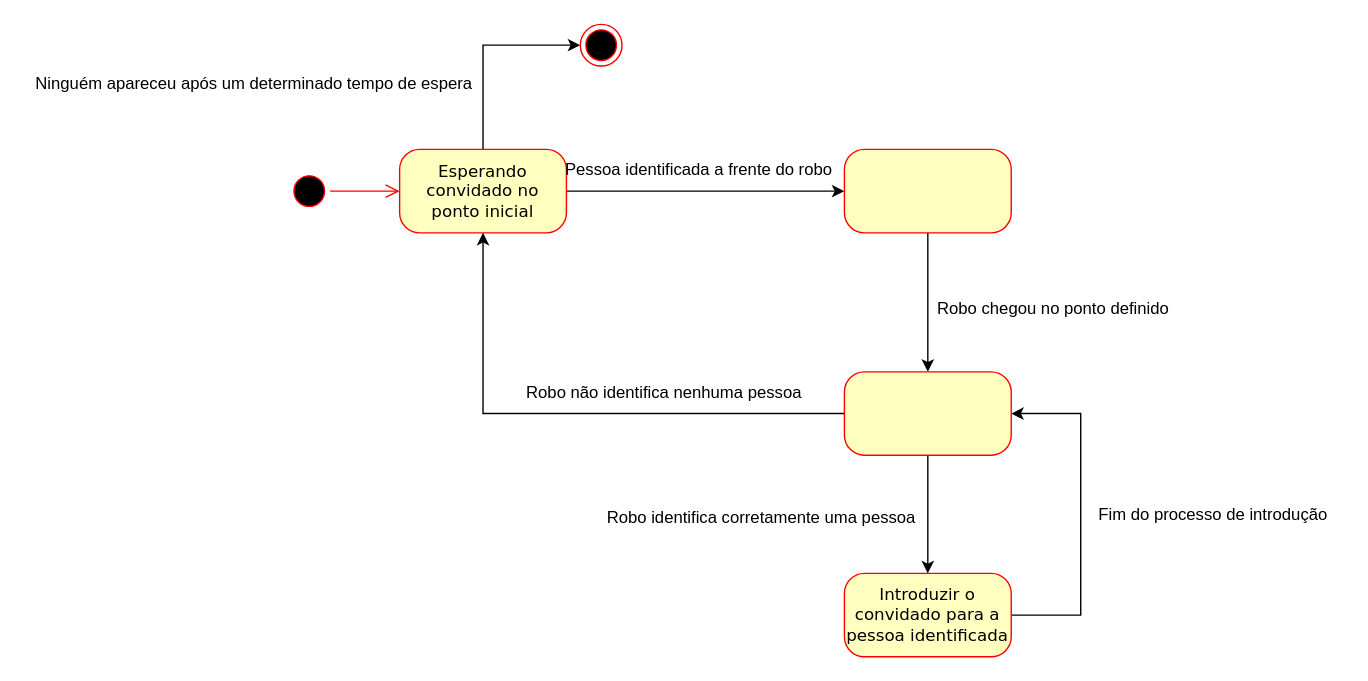
Image size: 1368x681. Some labels were removed from this diagram. The centre of each missing label's shape, as x and y in pixels:
"Ir ate a sala onde ocorre a festa" goes at [927,190].
"Observar sala em busca de pessoas e identifica-las" goes at [927,412].
